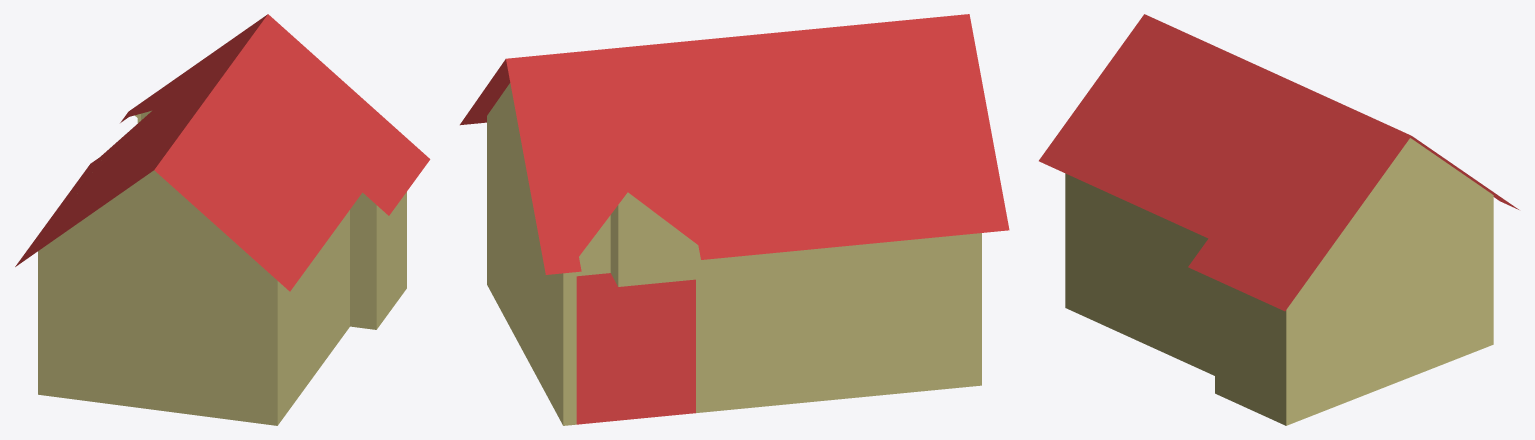
3 views of the same model, side by side, from view 1: azimuth 30°, elevation 25°; view 2: azimuth 150°, elevation 25°; view 3: azimuth 270°, elevation 25° (orthographic). The views are drawn at different scales.
Size of the model in its own units: 19.87 by 18.91 by 10.9.
